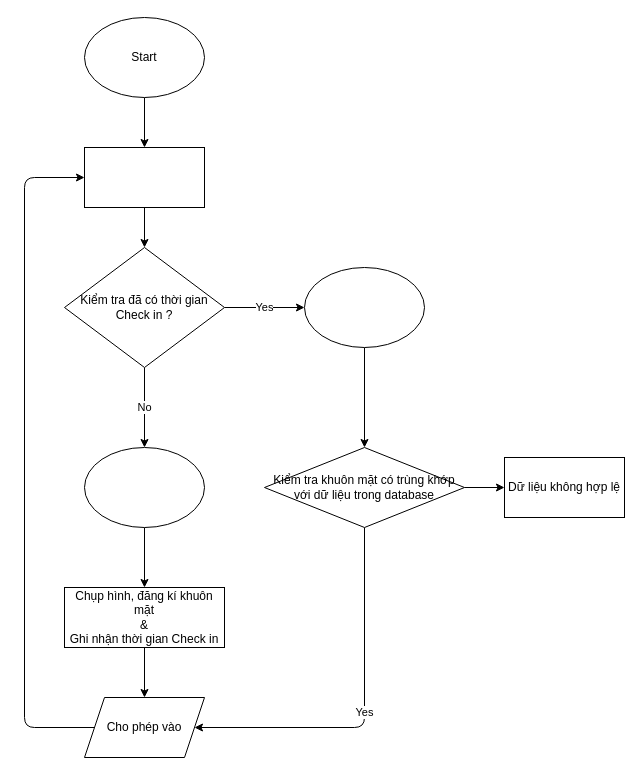
The diagram is 642 pixels wide and 775 high, and some of its shapes have lost their labels. Here are the shapes that lost their labels. From the top down, the box of each, then its label:
(84, 146, 204, 208): Quét QR
(304, 266, 424, 348): Đã Check In sự kiện
(84, 446, 204, 528): Chưa Check In Sự kiện
